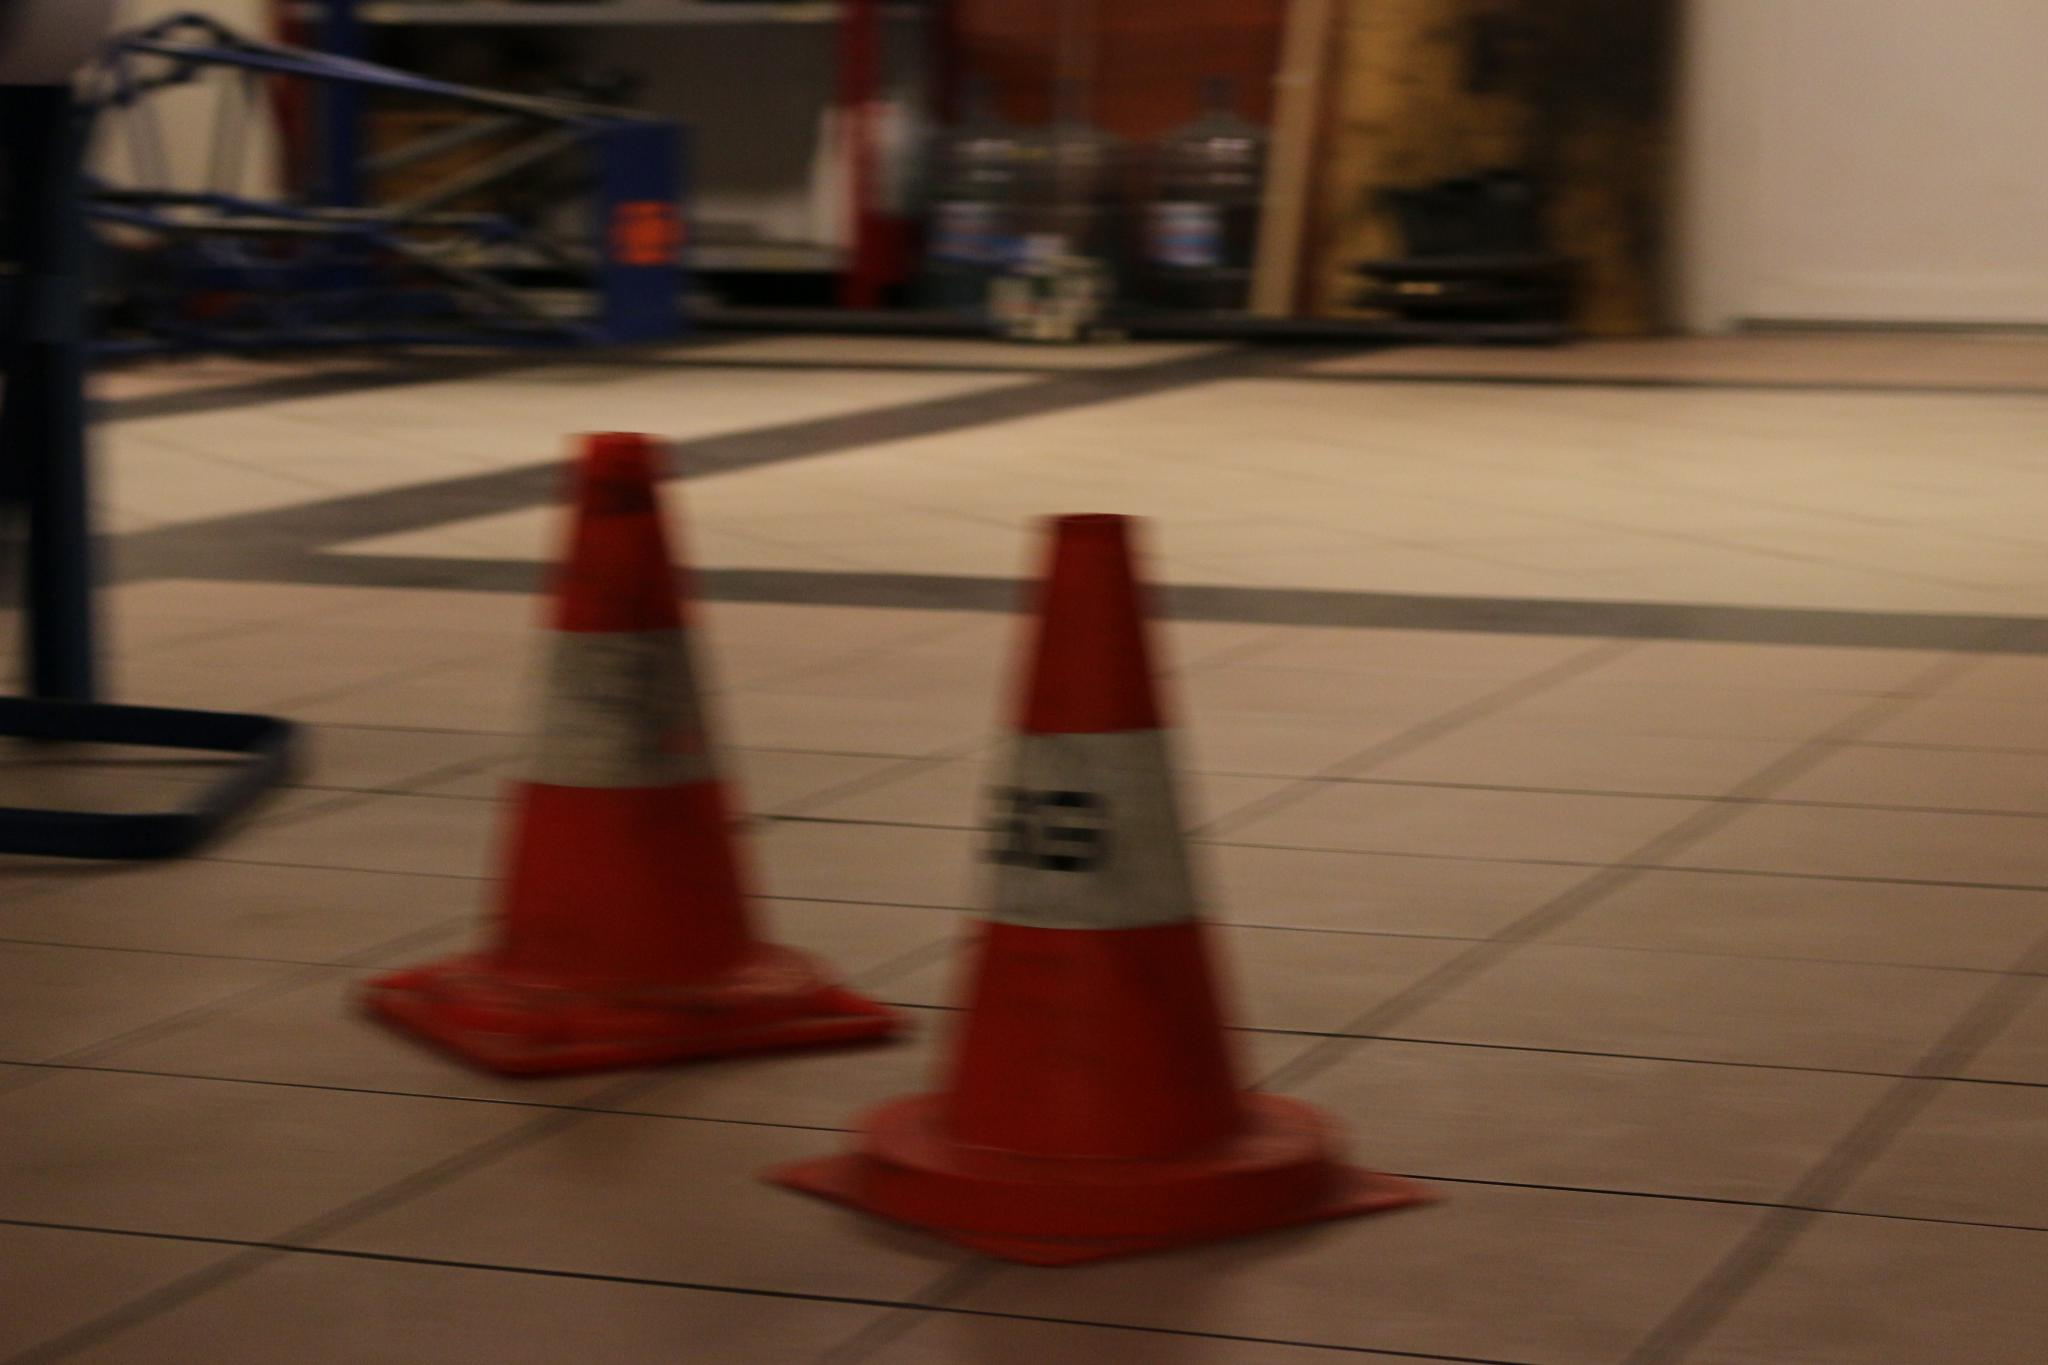Orange_Cone: (831, 471, 1364, 1243), (404, 420, 860, 1056)
